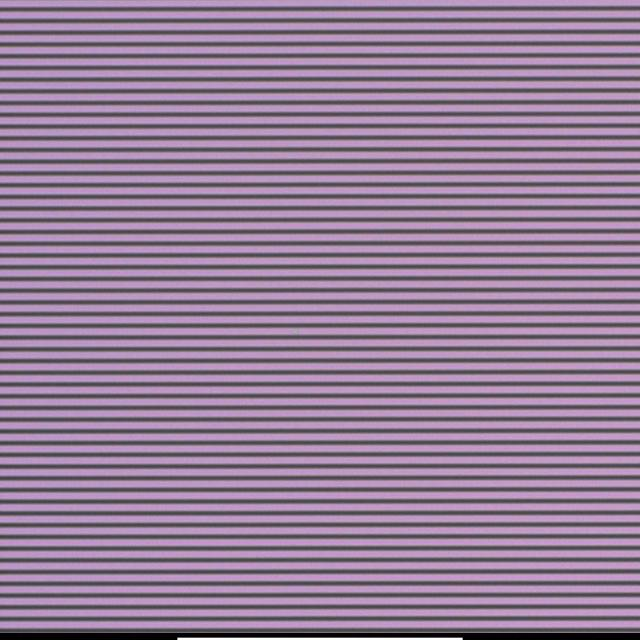nonvisual: (310, 289, 318, 297)
